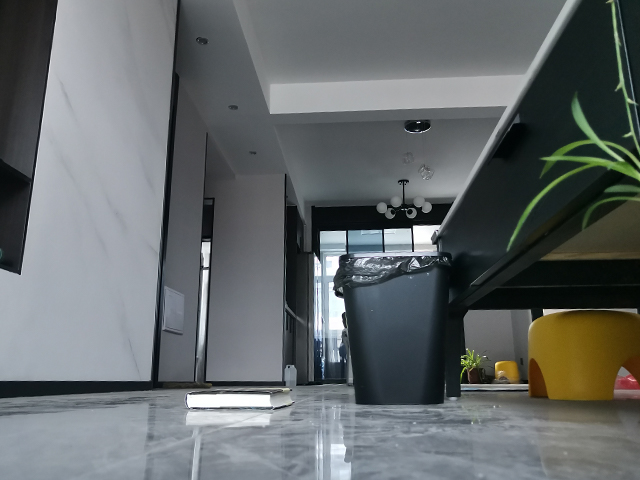book: (184, 387, 297, 411)
stool: (524, 308, 640, 404), (492, 358, 520, 385)
table: (429, 1, 640, 399)
trashcan: (337, 252, 455, 408)
